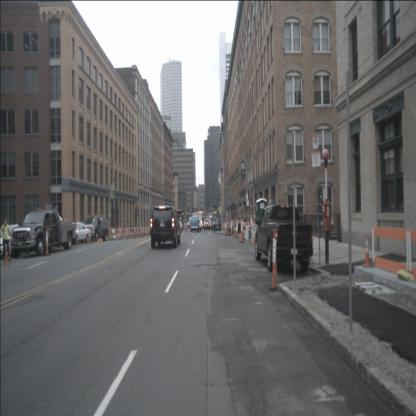human-pedestrian-adult: (2, 218, 13, 262)
movable_object-trafficcone: (268, 230, 279, 290), (362, 237, 371, 267), (44, 226, 50, 256), (3, 244, 10, 266), (239, 219, 244, 243), (252, 221, 256, 245), (241, 217, 245, 240), (235, 219, 239, 239), (89, 222, 92, 243), (233, 219, 236, 237), (230, 219, 233, 236), (224, 220, 227, 236), (185, 225, 188, 231)
vehicle-car: (150, 206, 180, 248), (0, 224, 32, 257), (64, 222, 90, 244), (190, 216, 199, 232), (214, 221, 222, 232), (175, 222, 183, 232), (204, 218, 210, 229), (211, 221, 217, 230), (204, 221, 209, 230)
vehicle-truck: (255, 204, 313, 272), (11, 210, 76, 258), (82, 217, 111, 242), (193, 212, 202, 231)
